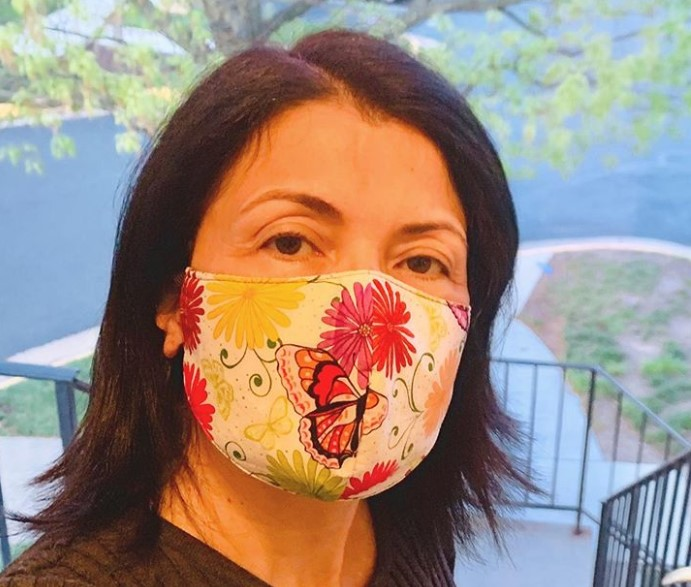face_with_mask: (136, 45, 498, 512)
